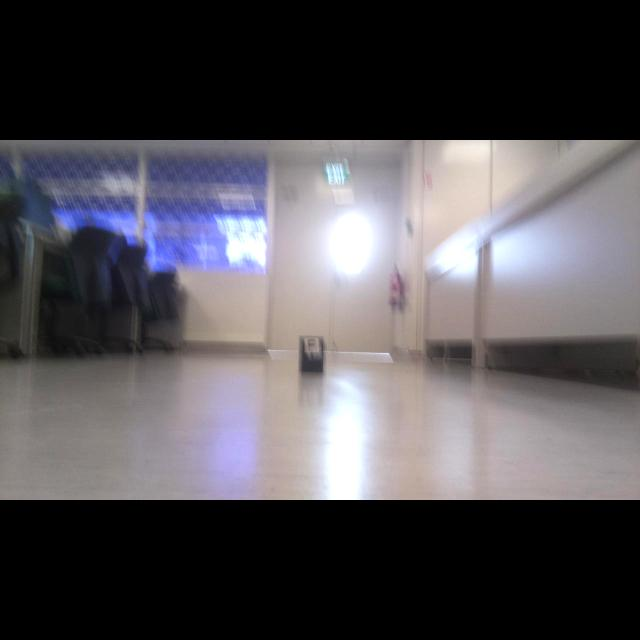F: (308, 339, 315, 351)
